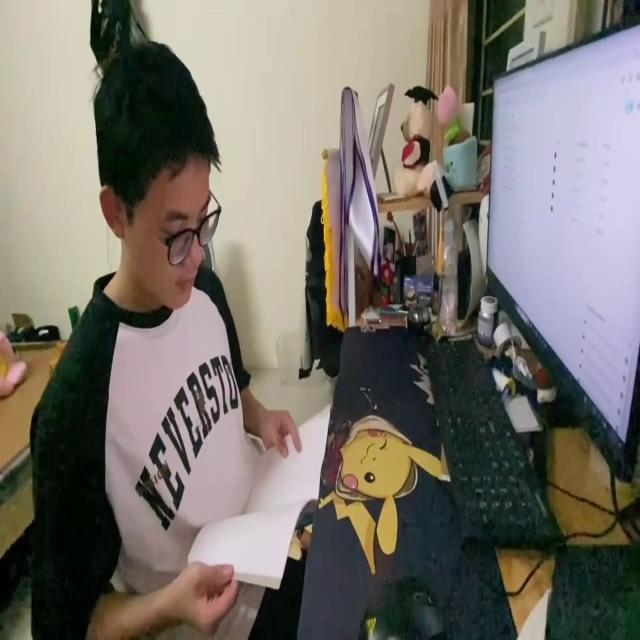book: (184, 402, 330, 590)
laptop: (483, 15, 640, 485)
student: (26, 37, 302, 640)
